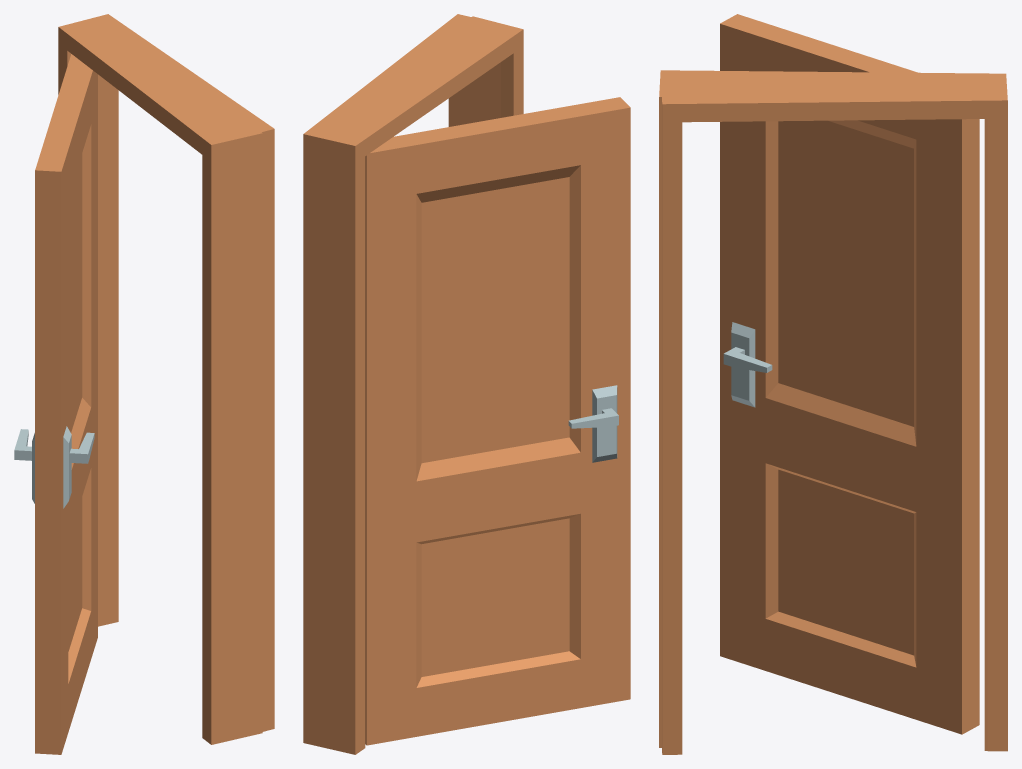
Rendered from puertaDeposito.glb.
3 views of the same model, side by side, from view 1: azimuth 30°, elevation 25°; view 2: azimuth 150°, elevation 25°; view 3: azimuth 270°, elevation 25° (orthographic). The views are drawn at different scales.
Visible parts, largest first — view 1: doorway_1, door, doorway; view 2: door, doorway, doorway_1; view 3: door, doorway, doorway_1.
Boxes of the visible parts, x1=… form: doorway_1: x1=58, y1=15, x2=262, y2=744; door: x1=14, y1=54, x2=97, y2=754; doorway: x1=59, y1=14, x2=274, y2=731; door: x1=365, y1=97, x2=630, y2=745; doorway: x1=303, y1=14, x2=509, y2=754; doorway_1: x1=308, y1=16, x2=523, y2=754; door: x1=720, y1=14, x2=979, y2=734; doorway: x1=660, y1=73, x2=1007, y2=754; doorway_1: x1=659, y1=70, x2=1005, y2=750.
Bounding box in the file's own units: 0.3692 × 1.01 × 0.4902.
